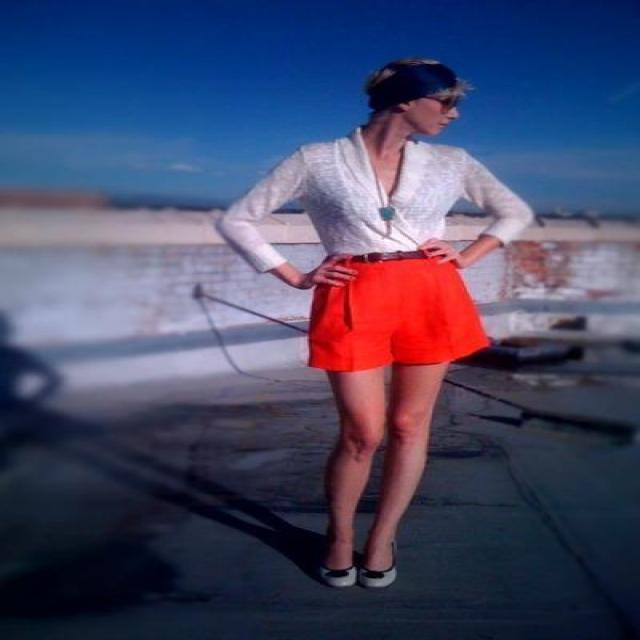shirt: (226, 141, 531, 284)
shoe: (329, 550, 402, 586)
skirt: (288, 254, 490, 370)
